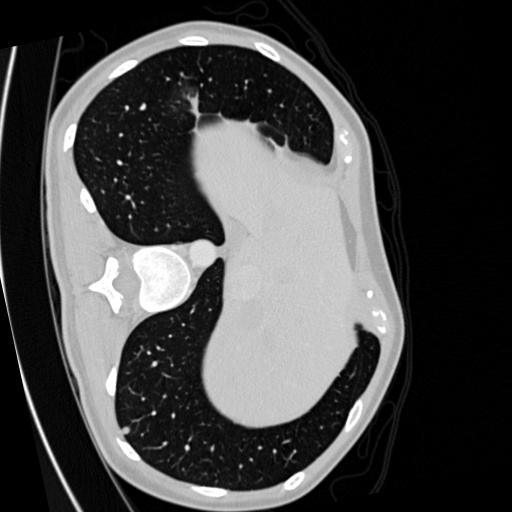nodule: (120, 425, 134, 439)
